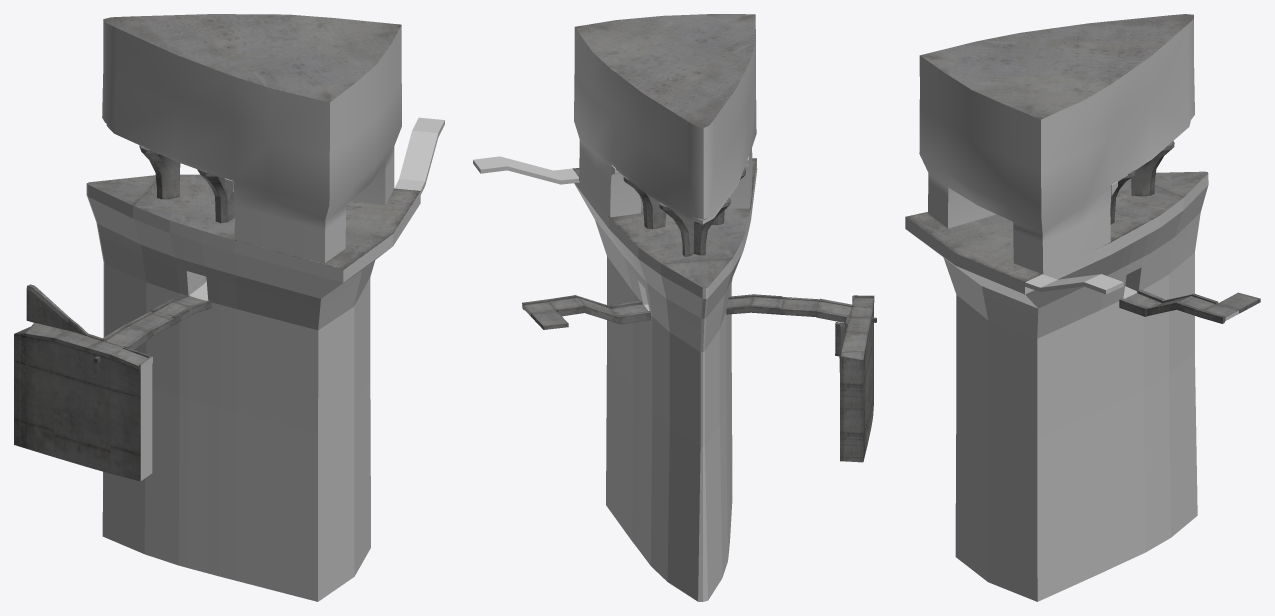
File: SM_CorridorSculpture_02_03.fbx
3 views of the same model, side by side, from view 1: azimuth 30°, elevation 25°; view 2: azimuth 150°, elevation 25°; view 3: azimuth 270°, elevation 25° (orthographic). The views are drawn at different scales.
Visible parts, largest first — view 1: SM_CorridorSculpture_02_03; view 2: SM_CorridorSculpture_02_03; view 3: SM_CorridorSculpture_02_03.
Boxes of the visible parts, x1,y1,x2,y2 form: SM_CorridorSculpture_02_03: (14, 14, 444, 601); SM_CorridorSculpture_02_03: (473, 14, 876, 601); SM_CorridorSculpture_02_03: (905, 14, 1260, 601).
Size of the model in its own units: 5527 by 6365 by 4108.
